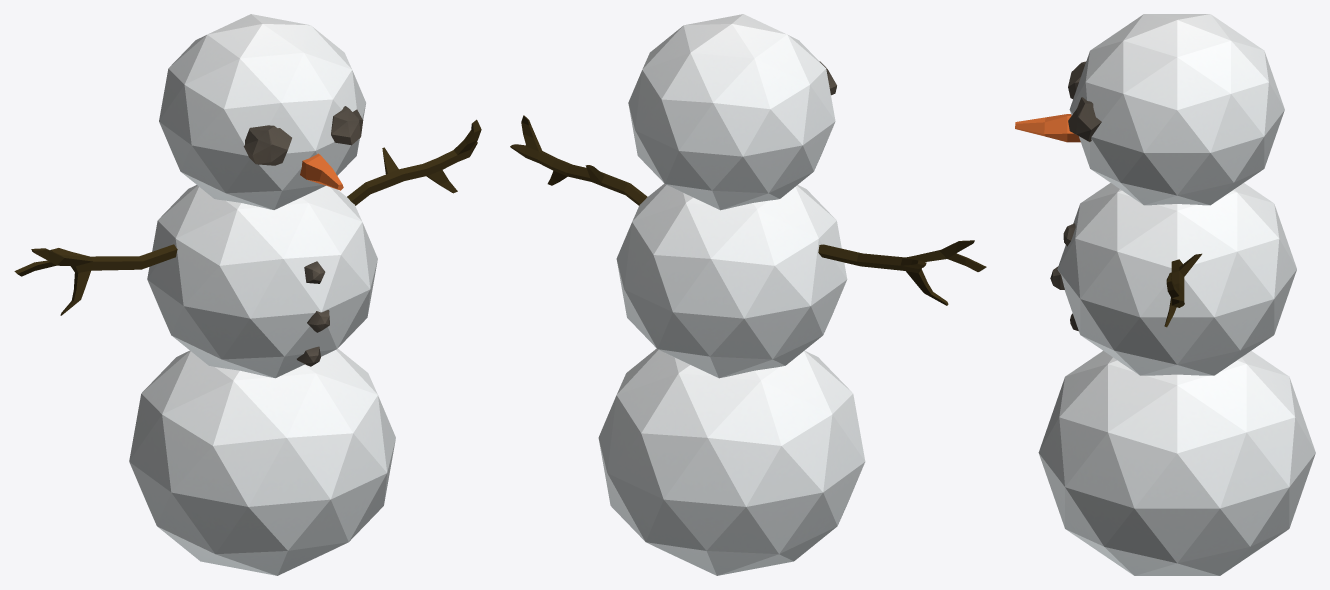
Rendered from ami.fbx.
The picture shows the model from 3 angles, left to right: view 1: azimuth 30°, elevation 25°; view 2: azimuth 150°, elevation 25°; view 3: azimuth 270°, elevation 25°; orthographic projection.
Parts seen in each view (by area): view 1: Icosphere, Sphere.002, Cylinder.002; view 2: Icosphere, Sphere.002, Cylinder.002; view 3: Icosphere, Sphere.002, Cylinder.002.
Boxes of the visible parts, box(x1,y1,x2,y2) form: Icosphere: box(129, 348, 395, 575); Sphere.002: box(14, 119, 481, 378); Cylinder.002: box(159, 14, 365, 209); Icosphere: box(598, 348, 865, 575); Sphere.002: box(510, 115, 986, 378); Cylinder.002: box(628, 14, 836, 210); Icosphere: box(1038, 351, 1315, 575); Sphere.002: box(1050, 183, 1296, 375); Cylinder.002: box(1015, 14, 1284, 205).
Size of the model in its own units: 7.94 by 8.73 by 4.34.
4 materials, 4 textured.
